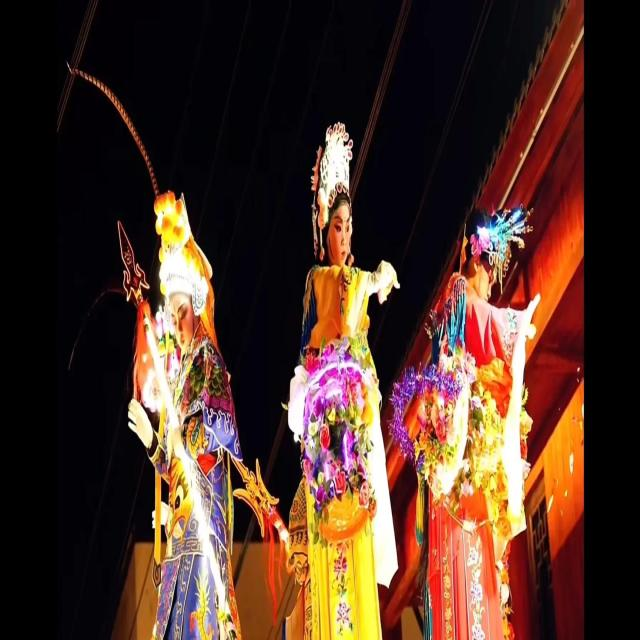Reeves-s Pheasant: (68, 64, 160, 198)
